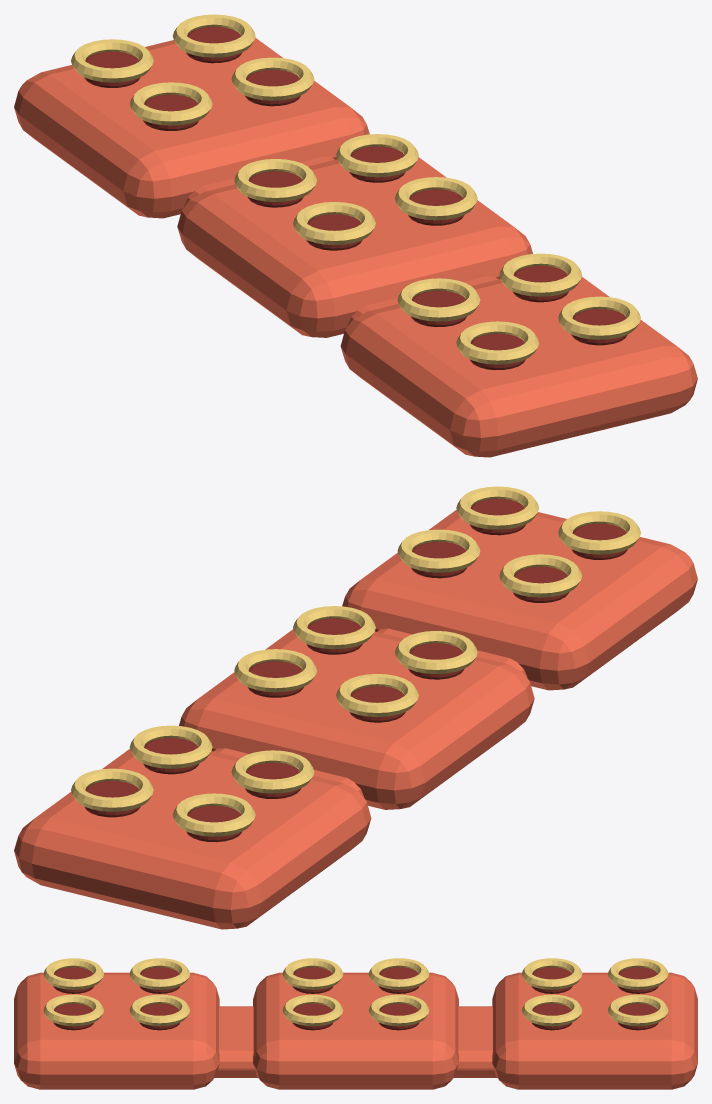
Rendered from PR3D_Container_1x3.fbx.
The picture shows the model from 3 angles, top to bottom: view 1: azimuth 30°, elevation 25°; view 2: azimuth 150°, elevation 25°; view 3: azimuth 270°, elevation 25°; orthographic projection. The views are drawn at different scales.
Visible parts, largest first — view 1: Visual_1x3_Base_00, Visual_1x3_Base_01, Visual_1x3_Base_02, Visual_1x3_ToppingRim_02_01, Visual_1x3_ToppingRim_00_00, Visual_1x3_ToppingRim_01_02, Visual_1x3_ToppingRim_01_03, Visual_1x3_ToppingRim_01_00, Visual_1x3_ToppingRim_02_03, Visual_1x3_ToppingRim_02_02, Visual_1x3_ToppingRim_02_00, Visual_1x3_ToppingRim_00_02 (+15 smaller); view 2: Visual_1x3_Base_02, Visual_1x3_Base_01, Visual_1x3_Base_00, Visual_1x3_ToppingRim_00_00, Visual_1x3_ToppingRim_02_01, Visual_1x3_ToppingRim_01_02, Visual_1x3_ToppingRim_01_03, Visual_1x3_ToppingRim_00_02, Visual_1x3_ToppingRim_01_01, Visual_1x3_ToppingRim_00_03, Visual_1x3_ToppingRim_00_01, Visual_1x3_ToppingRim_01_00 (+15 smaller); view 3: Visual_1x3_Base_01, Visual_1x3_Base_00, Visual_1x3_Base_02, Visual_1x3_Bridge_00, Visual_1x3_Bridge_01, Visual_1x3_ToppingRim_01_00, Visual_1x3_ToppingRim_01_01, Visual_1x3_ToppingRim_00_01, Visual_1x3_ToppingRim_02_00, Visual_1x3_ToppingRim_00_00, Visual_1x3_ToppingRim_02_01, Visual_1x3_ToppingRim_01_02 (+17 smaller).
Boxes of the visible parts, x1,y1,x2,y2 form: Visual_1x3_Base_00: (340, 277, 697, 457); Visual_1x3_Base_01: (177, 157, 532, 337); Visual_1x3_Base_02: (14, 37, 369, 218); Visual_1x3_ToppingRim_02_01: (71, 39, 153, 82); Visual_1x3_ToppingRim_00_00: (456, 321, 538, 364); Visual_1x3_ToppingRim_01_02: (395, 177, 477, 220); Visual_1x3_ToppingRim_01_03: (336, 134, 418, 177); Visual_1x3_ToppingRim_01_00: (293, 202, 375, 245); Visual_1x3_ToppingRim_02_03: (173, 14, 255, 57); Visual_1x3_ToppingRim_02_02: (231, 57, 314, 100); Visual_1x3_ToppingRim_02_00: (130, 82, 212, 125); Visual_1x3_ToppingRim_00_02: (558, 296, 640, 339); Visual_1x3_Base_02: (14, 749, 371, 929); Visual_1x3_Base_01: (179, 629, 534, 809); Visual_1x3_Base_00: (342, 509, 697, 690); Visual_1x3_ToppingRim_00_00: (558, 511, 640, 554); Visual_1x3_ToppingRim_02_01: (173, 793, 255, 836); Visual_1x3_ToppingRim_01_02: (293, 606, 375, 649); Visual_1x3_ToppingRim_01_03: (234, 649, 316, 692); Visual_1x3_ToppingRim_00_02: (456, 486, 538, 529); Visual_1x3_ToppingRim_01_01: (336, 674, 418, 717); Visual_1x3_ToppingRim_00_03: (397, 529, 480, 572); Visual_1x3_ToppingRim_00_01: (499, 554, 581, 597); Visual_1x3_ToppingRim_01_00: (395, 631, 477, 673); Visual_1x3_Base_01: (253, 972, 458, 1089); Visual_1x3_Base_00: (14, 972, 219, 1089); Visual_1x3_Base_02: (492, 972, 697, 1089); Visual_1x3_Bridge_00: (214, 1006, 257, 1077); Visual_1x3_Bridge_01: (454, 1006, 497, 1077); Visual_1x3_ToppingRim_01_00: (282, 958, 343, 989); Visual_1x3_ToppingRim_01_01: (368, 958, 429, 989); Visual_1x3_ToppingRim_00_01: (129, 958, 189, 989); Visual_1x3_ToppingRim_02_00: (522, 958, 582, 989); Visual_1x3_ToppingRim_00_00: (43, 958, 103, 989); Visual_1x3_ToppingRim_02_01: (608, 958, 668, 989); Visual_1x3_ToppingRim_01_02: (282, 994, 343, 1026).
Size of the model in its own units: 0.86 by 0.3091 by 2.86.
